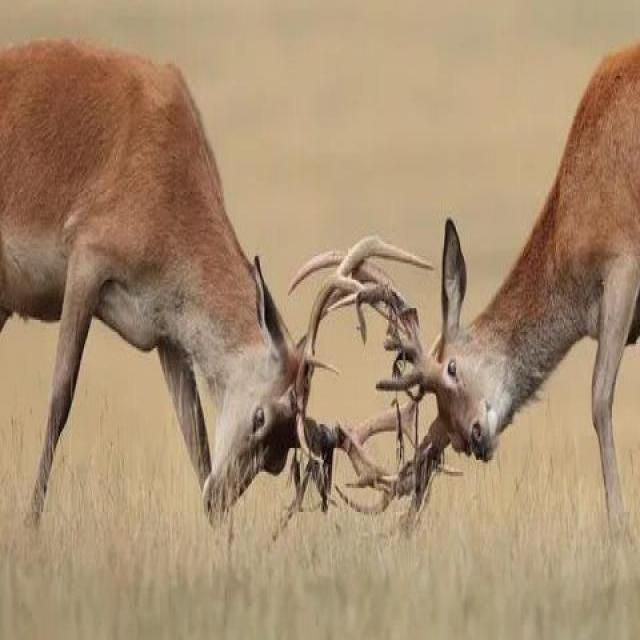deer: (0, 8, 337, 604), (386, 68, 640, 571)
